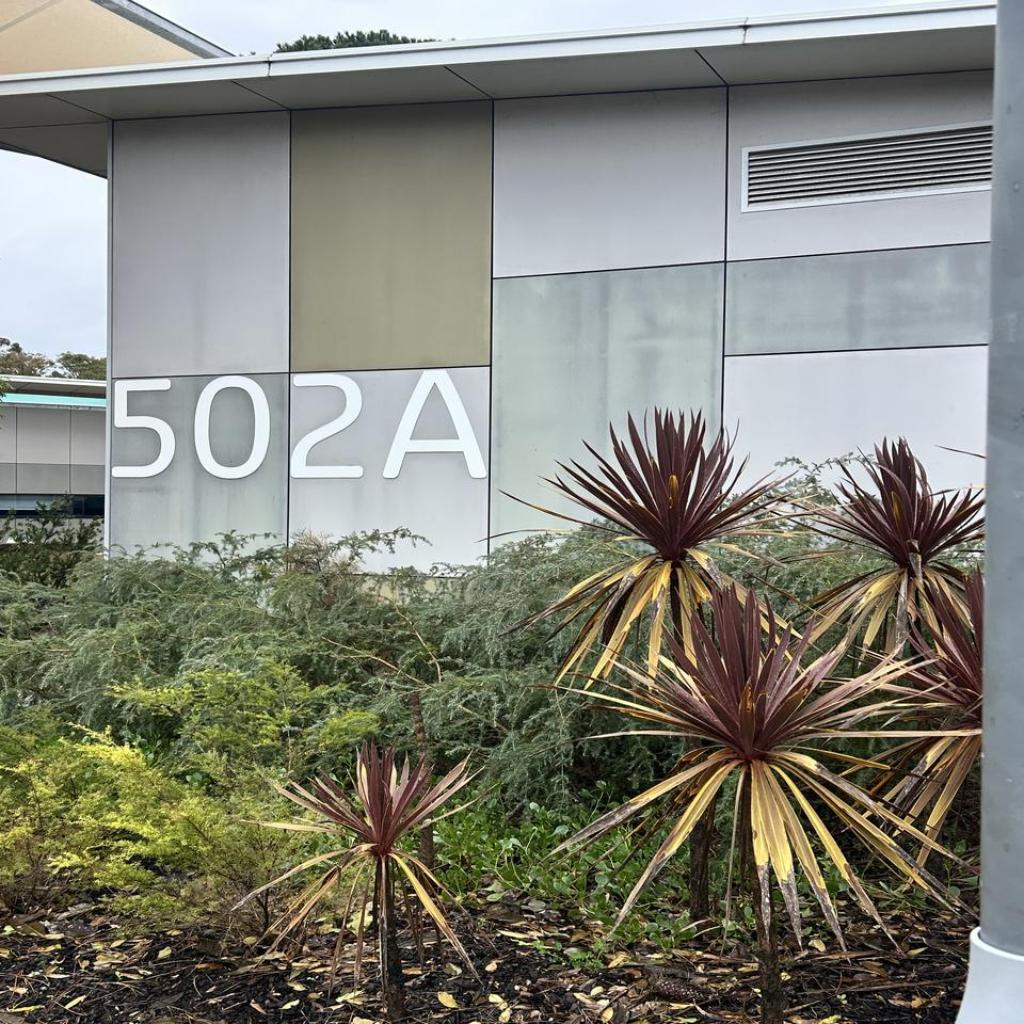BuildingCodes: (108, 366, 494, 482)
